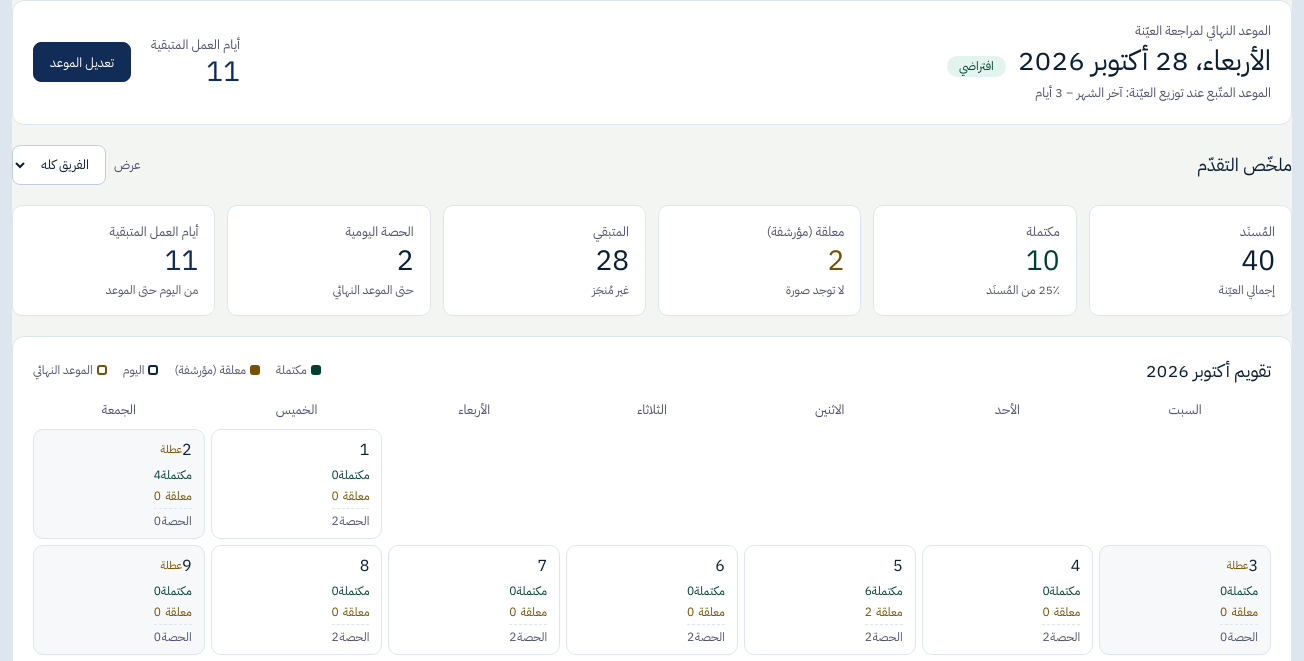
ResultsTracking › rejects a date outside the month
The image size is (1304, 661).
Click the button "تعديل الموعد" at (82, 62), box [33,42,131,82]
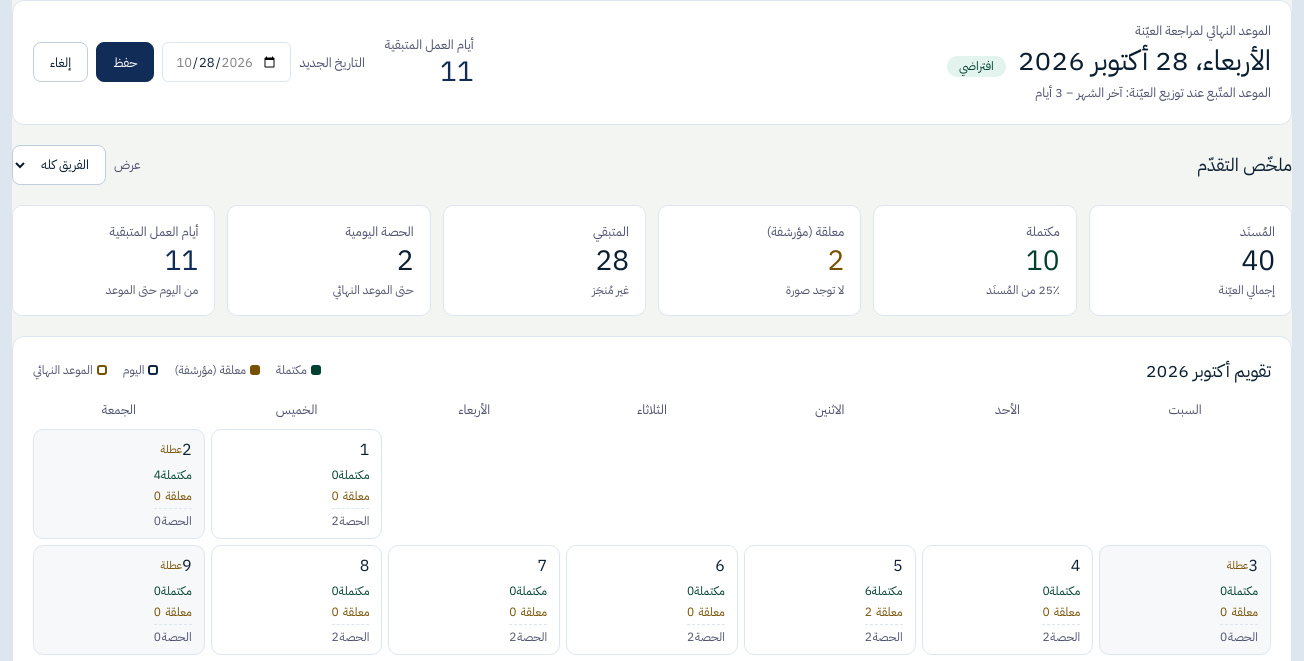
Type "2026-11-03" into the date field labelled "التاريخ الجديد" at (227, 62), box [162,42,291,82]
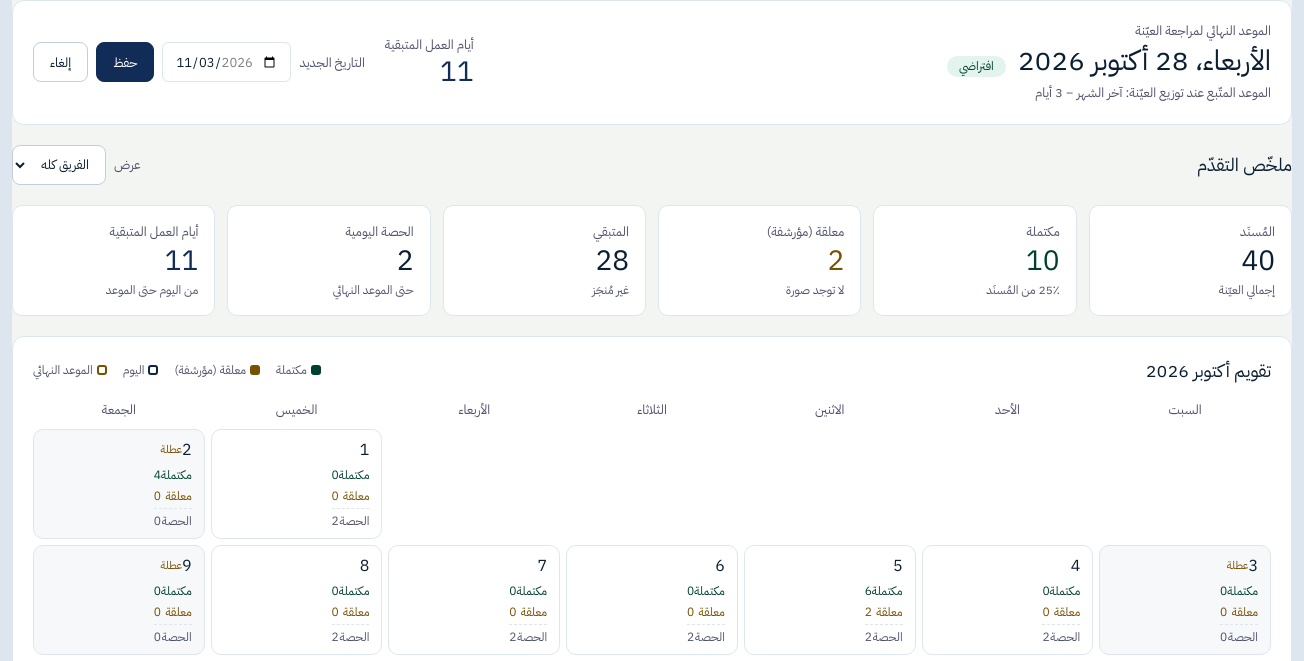
Click the button "حفظ" at (125, 62), box [96,42,154,82]
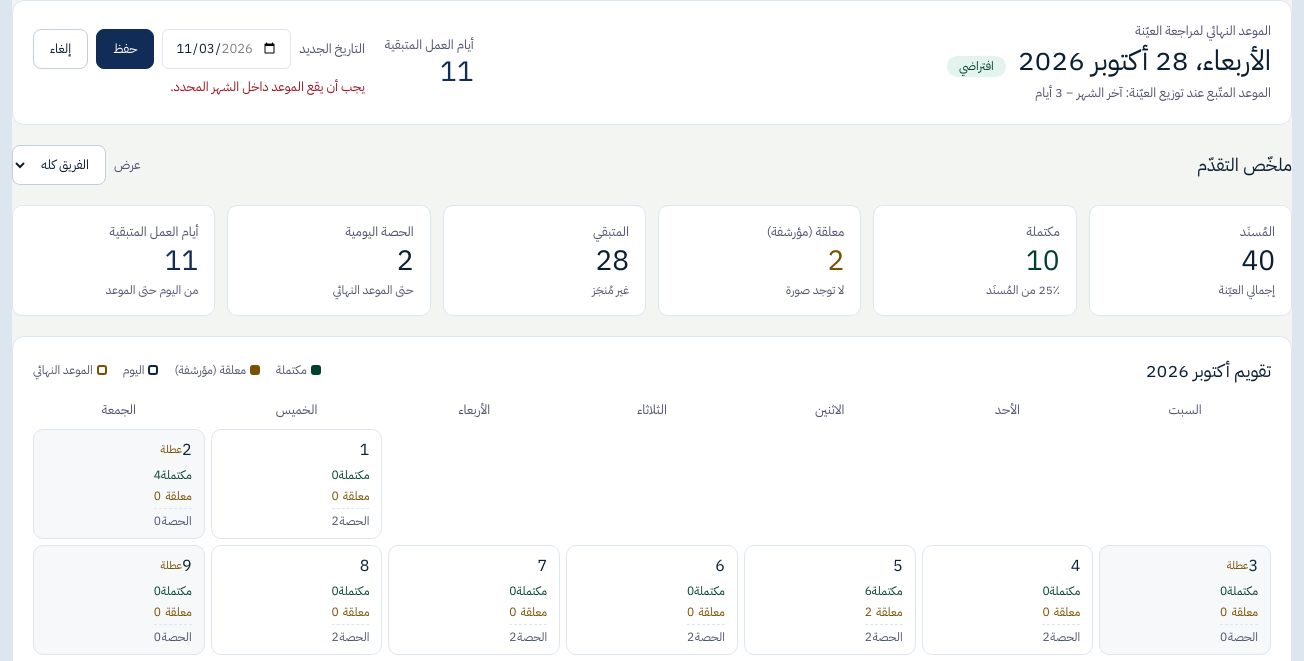
Expected: the message shows "داخل الشهر", [170,77,365,96]
